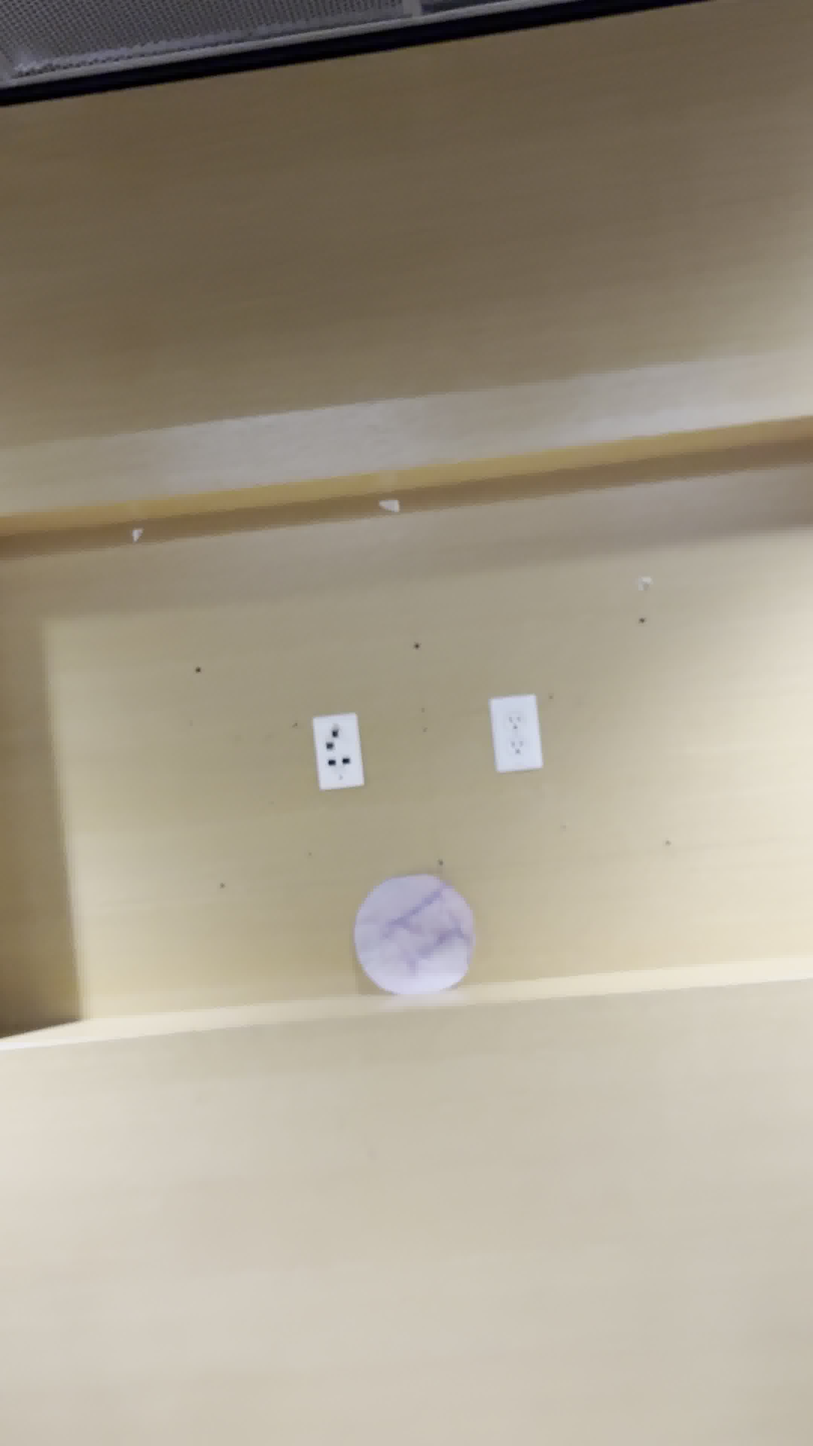Target: (350, 881, 478, 996)
